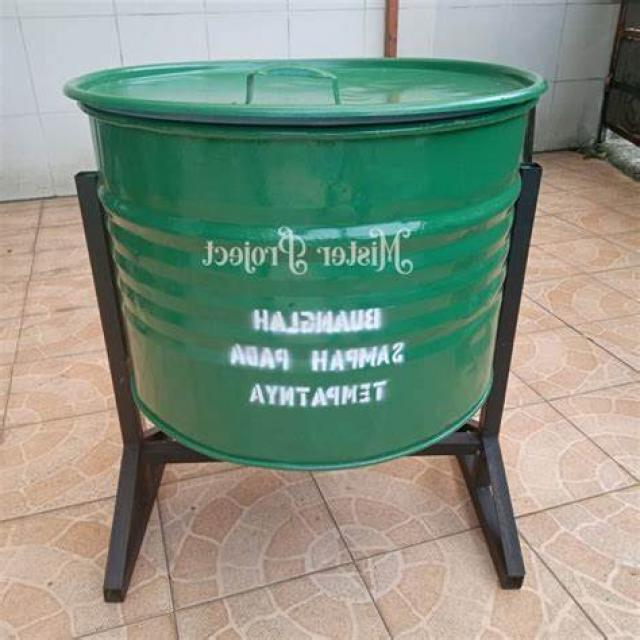garbage container: (54, 40, 556, 609)
